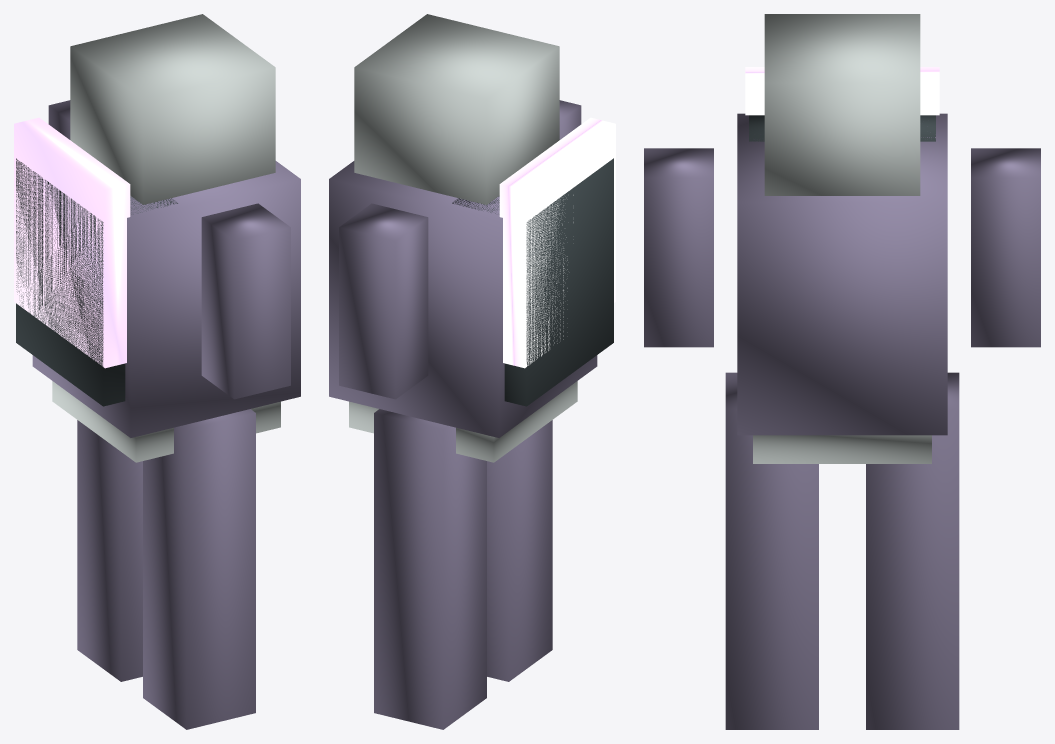
File: operator-systems-lod2.glb
3 views of the same model, side by side, from view 1: azimuth 30°, elevation 25°; view 2: azimuth 150°, elevation 25°; view 3: azimuth 270°, elevation 25° (orthographic). The views are drawn at different scales.
Parts seen in each view (by area): view 1: leg-left, helmet, torso-shell-mobile, systems-relay-left, arm-left, backpack, leg-right, hip-shell-mobile, arm-right; view 2: leg-right, helmet, torso-shell-mobile, backpack, arm-right, leg-left, systems-relay-left, hip-shell-mobile, arm-left; view 3: torso-shell-mobile, helmet, leg-left, leg-right, arm-left, arm-right, hip-shell-mobile, systems-relay-left, backpack.
Part boxes in pixels (x1,y1,x2,y2): leg-left: [143, 409, 255, 729]; helmet: [70, 14, 275, 204]; torso-shell-mobile: [32, 139, 300, 437]; systems-relay-left: [14, 117, 130, 368]; arm-left: [201, 203, 290, 399]; backpack: [16, 158, 177, 406]; leg-right: [77, 420, 142, 681]; hip-shell-mobile: [52, 381, 280, 462]; arm-right: [48, 100, 70, 139]; leg-right: [374, 409, 486, 729]; helmet: [354, 14, 559, 204]; torso-shell-mobile: [329, 139, 597, 437]; backpack: [452, 158, 613, 406]; arm-right: [339, 203, 428, 399]; leg-left: [487, 420, 552, 681]; systems-relay-left: [499, 117, 615, 368]; hip-shell-mobile: [349, 381, 577, 462]; arm-left: [559, 100, 581, 139]; torso-shell-mobile: [737, 113, 947, 435]; helmet: [764, 14, 920, 195]; leg-left: [725, 372, 818, 729]; leg-right: [866, 372, 959, 729]; arm-left: [644, 148, 713, 347]; arm-right: [971, 148, 1040, 347]; hip-shell-mobile: [753, 435, 931, 463]; systems-relay-left: [745, 67, 939, 115]; backpack: [749, 115, 935, 141].
Size of the model in its own units: 0.61 by 1.89 by 1.02.
